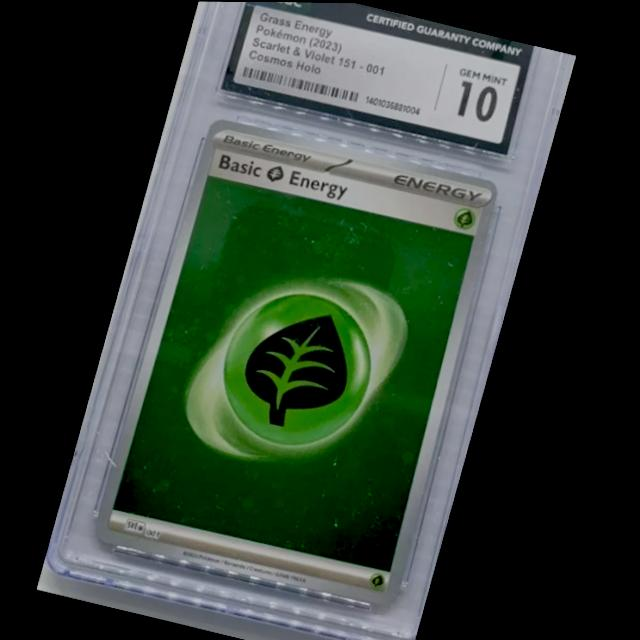card: (95, 116, 504, 609)
cgc_label: (220, 1, 535, 155)
cgc_slab: (46, 1, 574, 640)
